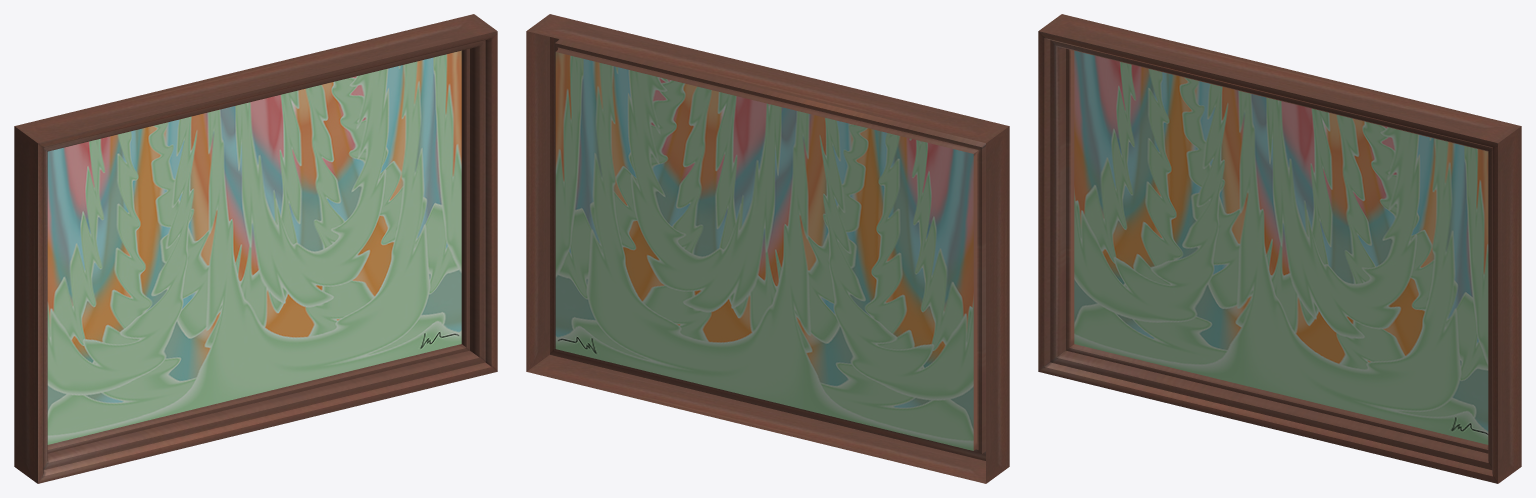
Rendered from RoomArt5K.FBX.
3 views of the same model, side by side, from view 1: azimuth 30°, elevation 25°; view 2: azimuth 150°, elevation 25°; view 3: azimuth 330°, elevation 25° (orthographic).
Visible parts, largest first — view 1: Box001; view 2: Box001; view 3: Box001.
Boxes of the visible parts, x1,y1,x2,y2 form: Box001: [14, 14, 497, 483]; Box001: [526, 14, 1009, 483]; Box001: [1038, 14, 1521, 483].
Size of the model in its own units: 99.25 by 70.3 by 8.74.
1 material, 1 textured.
